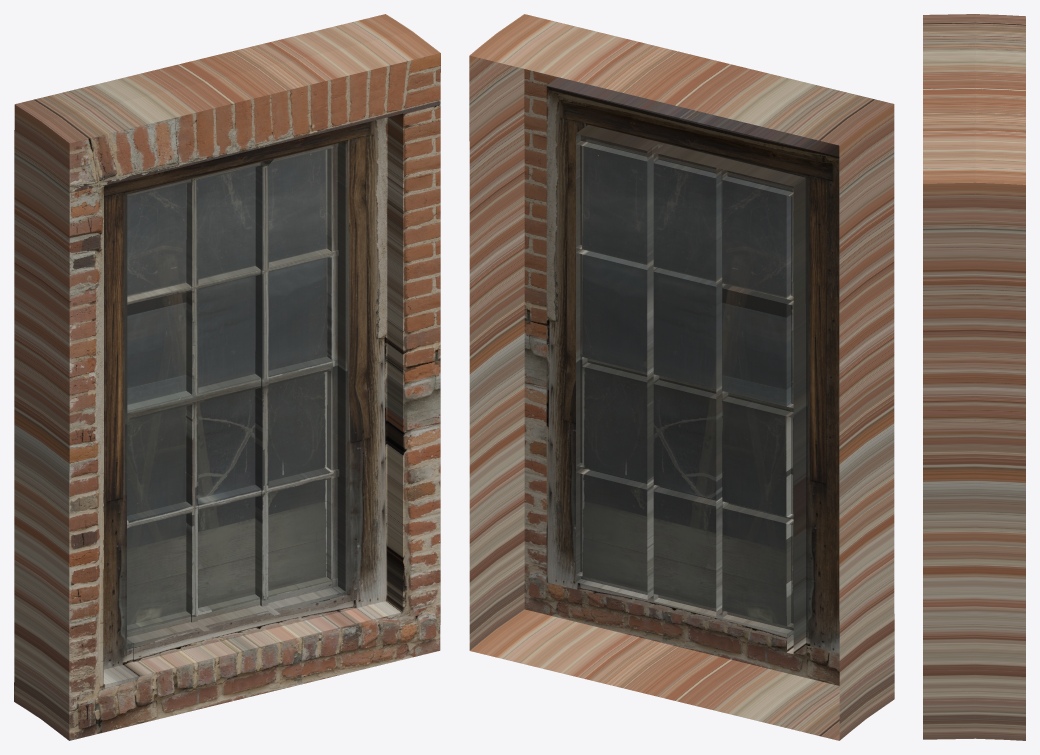
The model's file is window3.fbx.
The picture shows the model from 3 angles, left to right: view 1: azimuth 30°, elevation 25°; view 2: azimuth 150°, elevation 25°; view 3: azimuth 270°, elevation 25°; orthographic projection. The views are drawn at different scales.
Parts seen in each view (by area): view 1: Plane; view 2: Plane; view 3: Plane.
Part boxes in pixels (x1,y1,x2,y2): Plane: (14, 14, 440, 740); Plane: (469, 14, 894, 740); Plane: (923, 14, 1025, 740).
Size of the model in its own units: 282 by 435 by 72.48.
1 material, 1 textured.
